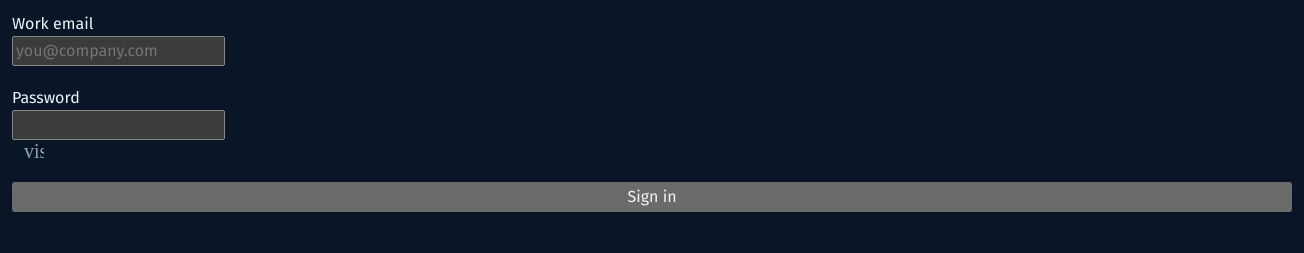
LoginForm › requires a password
This screenshot has width=1304, height=253.
Type "dev@acme.io" into the field labelled "Work email" at {"x": 118, "y": 51}, box [12,36,225,66]
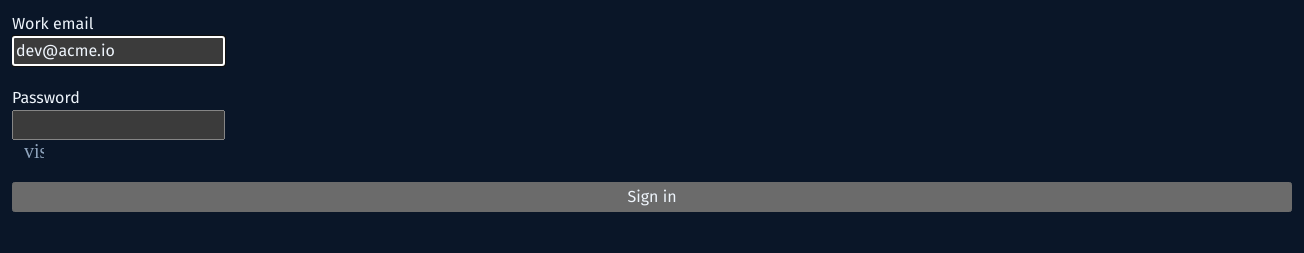
Click the button "Sign in" at {"x": 652, "y": 197}, box [12,182,1292,212]
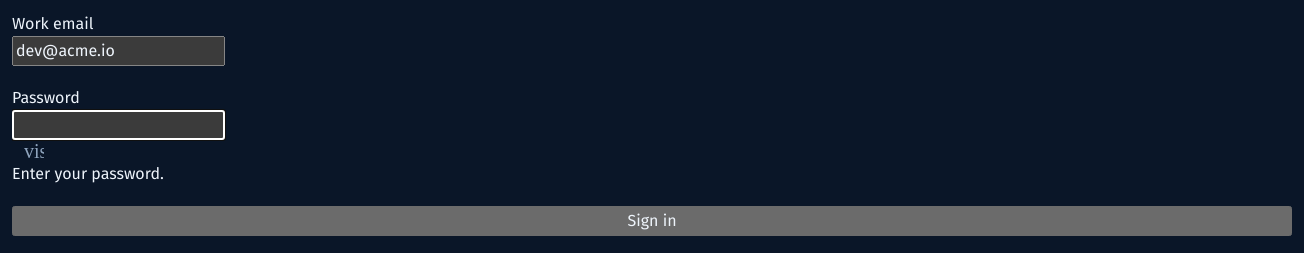
Result: the text "Enter your password." is shown at [12,164,164,183]
